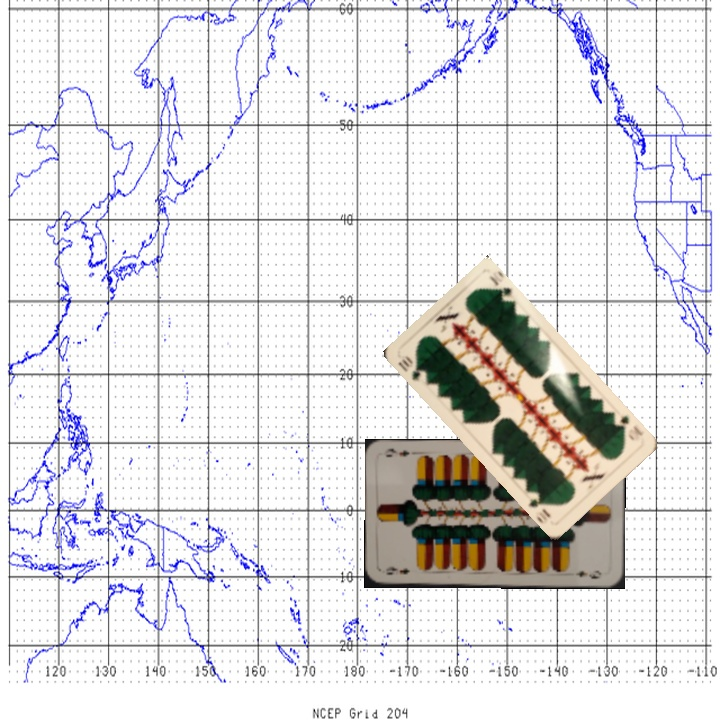E9: (382, 563, 412, 577)
G10: (394, 351, 430, 385), (616, 412, 646, 443)
